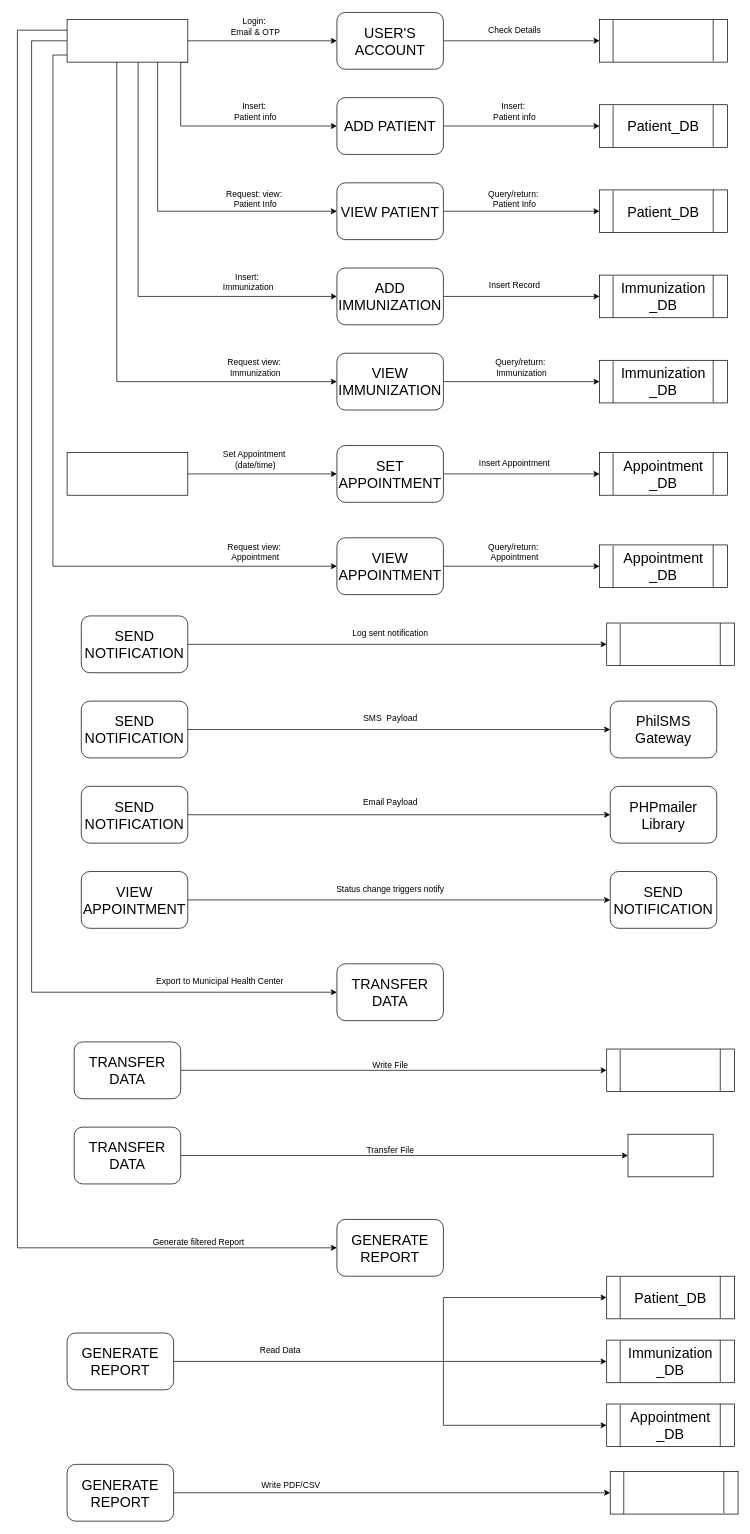
This 750x1534 diagram has some shape labels left out. Each missing label, with the centre of its shape:
"Admin" belongs at (x=127, y=40).
"Export_File" belongs at (x=670, y=1070).
"MUNICIPAL" belongs at (x=670, y=1155).
"Notification_log _DB" belongs at (x=670, y=644).
"Patient" belongs at (x=127, y=473).
"Report_File" belongs at (x=674, y=1492).
"Users_DB" belongs at (x=663, y=40).
